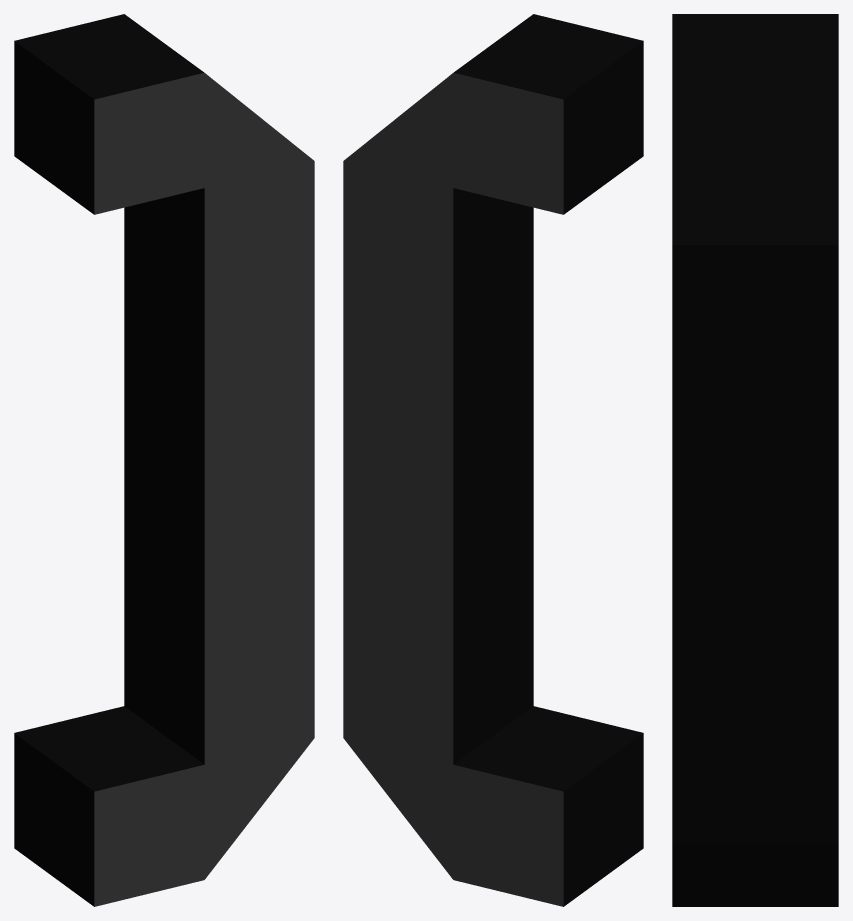
The model's file is 2166be4e-e9ef-4e48-bd93-23f8fbfe2a4e.glb.
3 views of the same model, side by side, from view 1: azimuth 30°, elevation 25°; view 2: azimuth 150°, elevation 25°; view 3: azimuth 270°, elevation 25° (orthographic). The views are drawn at different scales.
Visible parts, largest first — view 1: )_DeltaBlock_Black; view 2: )_DeltaBlock_Black; view 3: )_DeltaBlock_Black.
Part boxes in pixels (left/top/right/bottom): )_DeltaBlock_Black: left=14, top=14, right=314, bottom=906; )_DeltaBlock_Black: left=343, top=14, right=643, bottom=906; )_DeltaBlock_Black: left=672, top=14, right=838, bottom=906.
Size of what is drawn, in the model's own units: 0.0714 by 0.25 by 0.045.
Materials: 2 (2 with a texture image).
